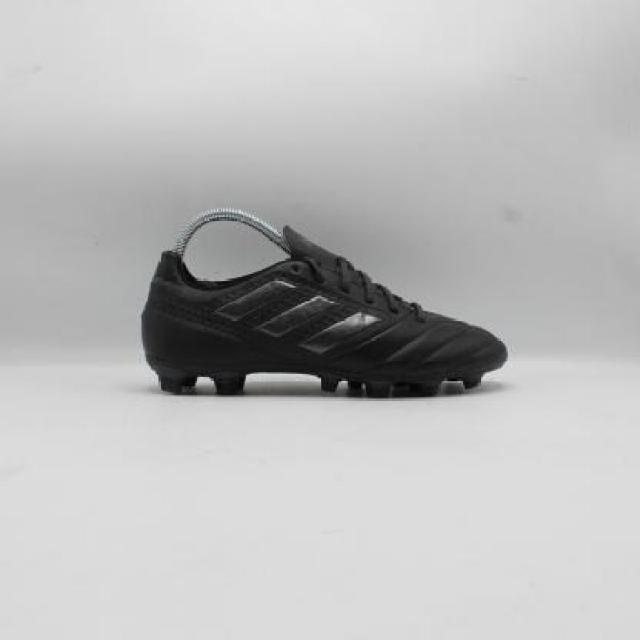Adidas: (216, 276, 376, 362)
